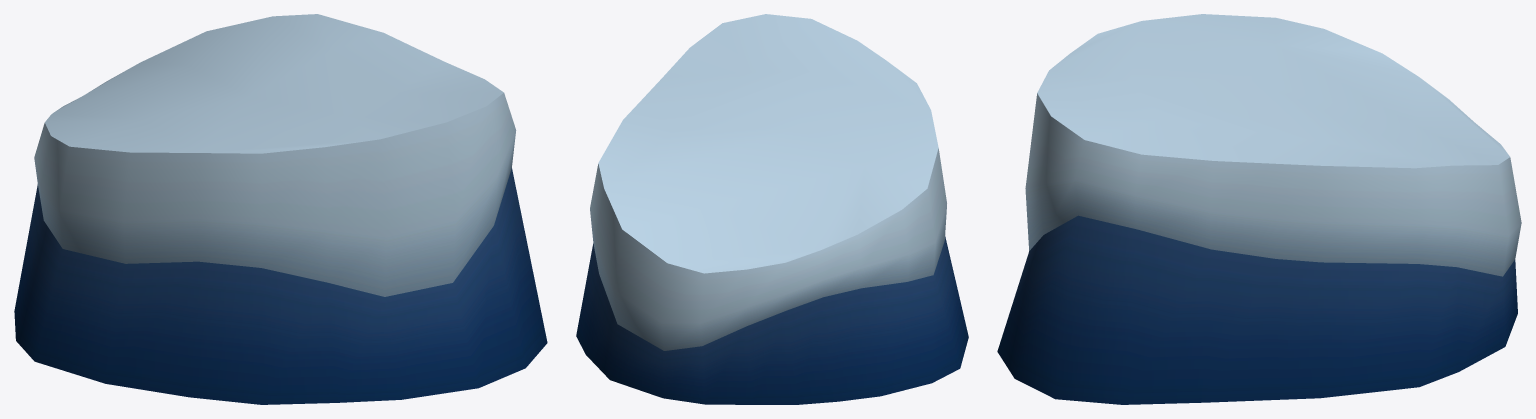
Rendered from snow-rock-01.glb.
3 renders of one model, left to right at view 1: azimuth 30°, elevation 25°; view 2: azimuth 150°, elevation 25°; view 3: azimuth 270°, elevation 25°, orthographic. The views are drawn at different scales.
Visible parts, largest first — view 1: Snow Rock 01; view 2: Snow Rock 01; view 3: Snow Rock 01.
Part boxes in pixels (box(x1,y1,x2,y2)): Snow Rock 01: box(14, 14, 547, 404); Snow Rock 01: box(576, 14, 968, 404); Snow Rock 01: box(997, 14, 1521, 404).
Size of the model in its own units: 6.99 by 4.08 by 7.68.
1 material, 1 textured.
